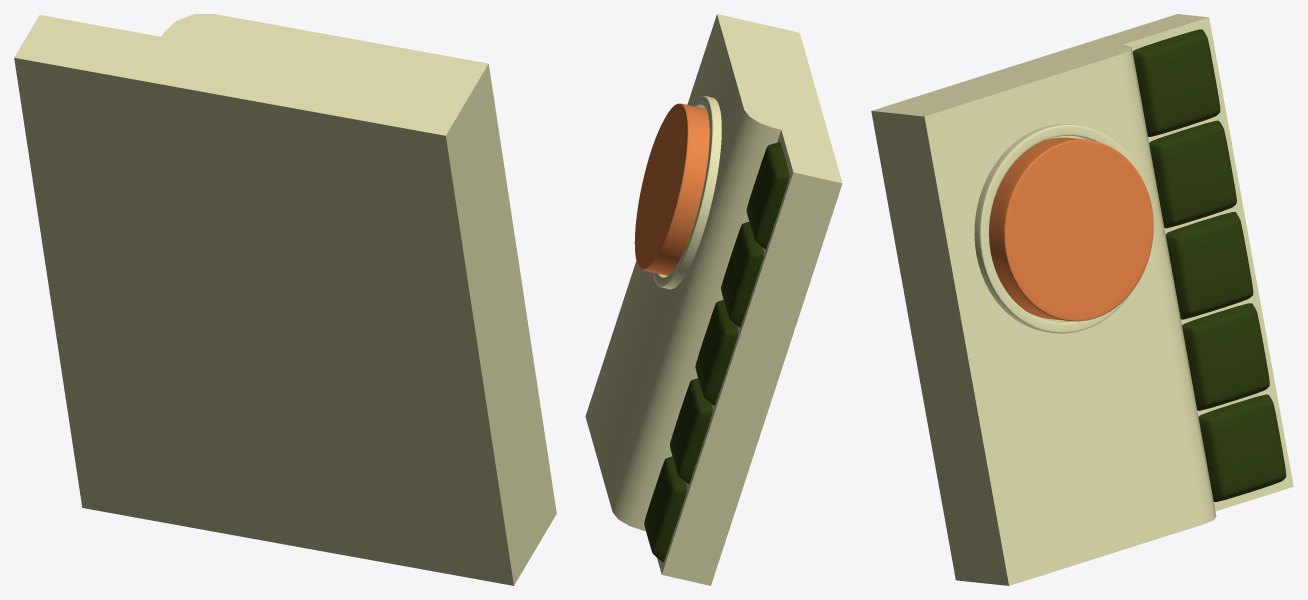
The model's file is remote_dynamic.glb.
3 views of the same model, side by side, from view 1: azimuth 30°, elevation 25°; view 2: azimuth 150°, elevation 25°; view 3: azimuth 270°, elevation 25° (orthographic). The views are drawn at different scales.
Parts seen in each view (by area): view 1: remote.001; view 2: remote.001; view 3: remote.001.
Boxes of the visible parts, box(x1,y1,x2,y2) form: remote.001: box(14, 14, 556, 585); remote.001: box(585, 14, 842, 585); remote.001: box(871, 14, 1293, 585).
Size of the model in its own units: 0.2186 by 0.2603 by 0.2234.
